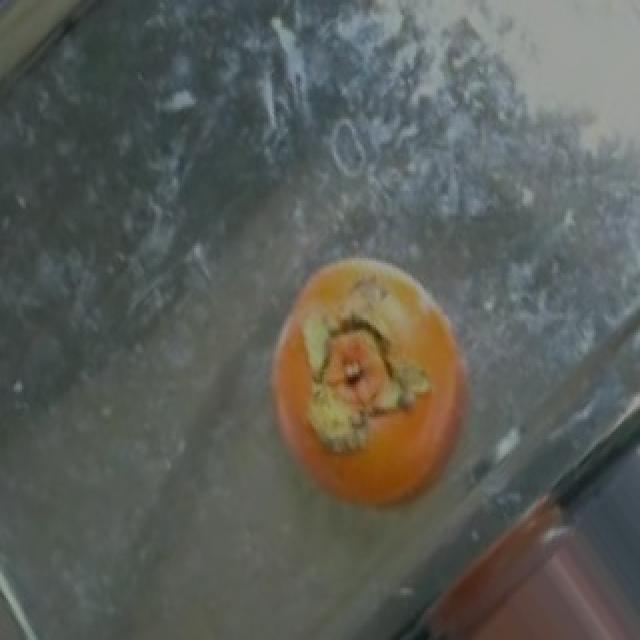Fruit: (248, 231, 498, 558), (404, 476, 638, 640)
